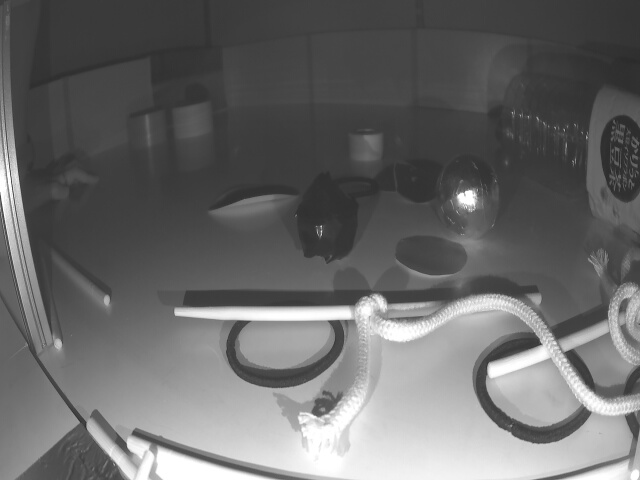Dead: (295, 172, 358, 265)
Live: (434, 150, 506, 243)
